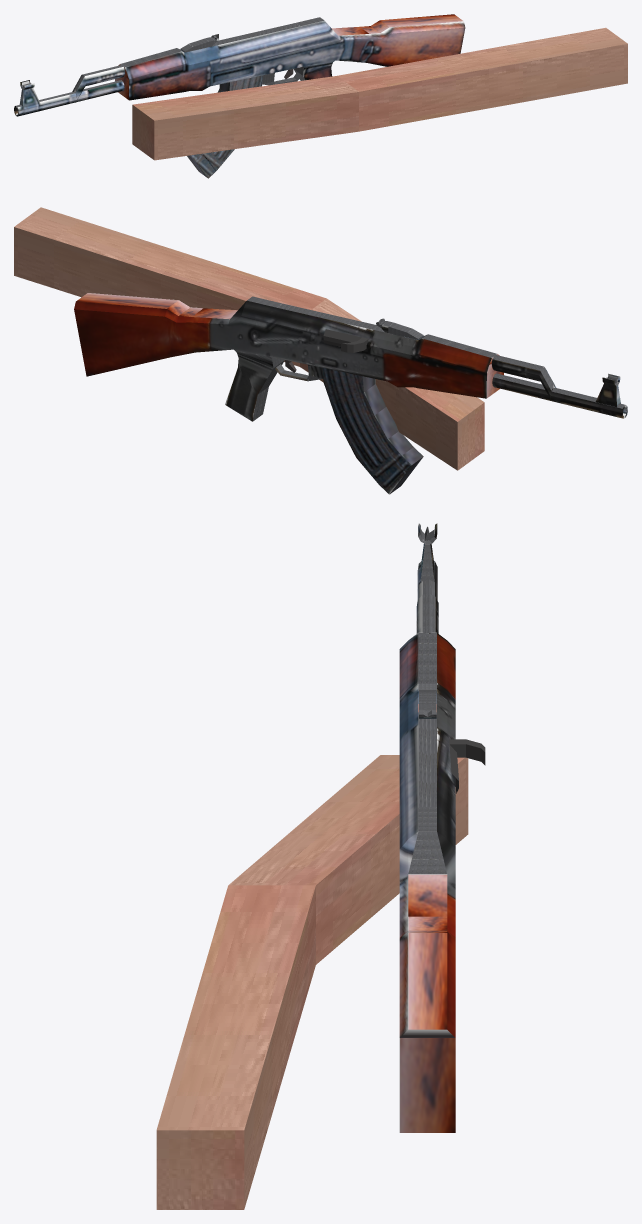
3 renders of one model, top to bottom at view 1: azimuth 30°, elevation 25°; view 2: azimuth 150°, elevation 25°; view 3: azimuth 270°, elevation 25°, orthographic. The views are drawn at different scales.
Visible parts, largest first — view 1: Cube.001_Cube.006, Cube.007_Cube.005, Cube.002_Cube.003; view 2: Cube.007_Cube.005, Cube.001_Cube.006, Cube.002_Cube.003, Plane; view 3: Cube.001_Cube.006, Cube.007_Cube.005.
Boxes of the visible parts, bbox=[...] form: Cube.001_Cube.006: bbox=[132, 27, 627, 160]; Cube.007_Cube.005: bbox=[14, 14, 465, 116]; Cube.002_Cube.003: bbox=[187, 75, 262, 178]; Cube.007_Cube.005: bbox=[74, 293, 627, 421]; Cube.001_Cube.006: bbox=[14, 207, 484, 470]; Cube.002_Cube.003: bbox=[322, 368, 423, 494]; Plane: bbox=[323, 329, 368, 352]; Cube.001_Cube.006: bbox=[156, 755, 468, 1209]; Cube.007_Cube.005: bbox=[399, 523, 455, 1132].
Size of the model in its own units: 11.67 by 2.78 by 3.06.
